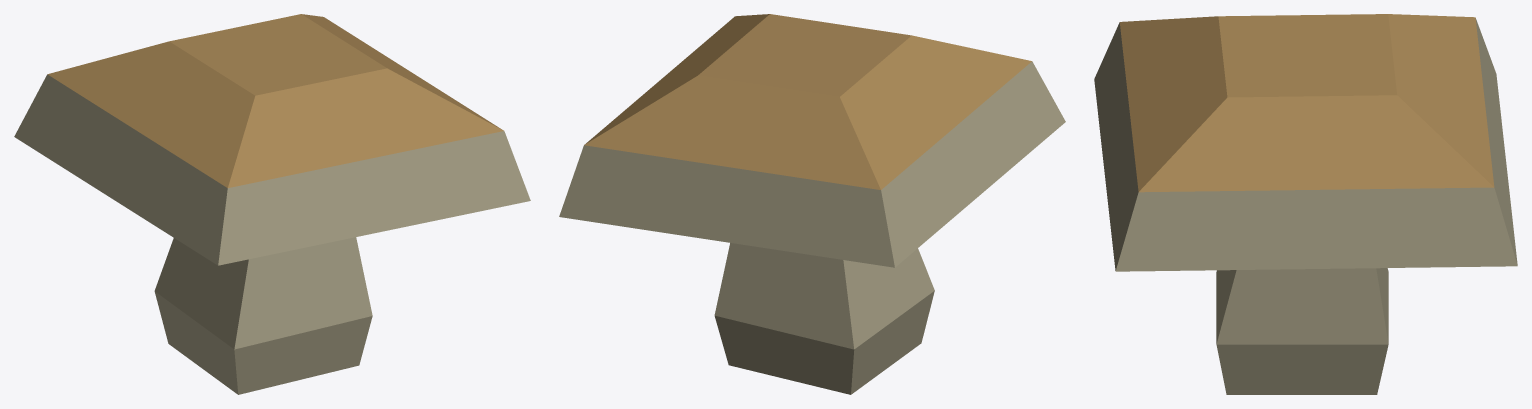
The model's file is mushroom01.fbx.
3 views of the same model, side by side, from view 1: azimuth 30°, elevation 25°; view 2: azimuth 150°, elevation 25°; view 3: azimuth 270°, elevation 25° (orthographic). The views are drawn at different scales.
Visible parts, largest first — view 1: mushroom01; view 2: mushroom01; view 3: mushroom01.
Part boxes in pixels (<box>): mushroom01: <box>14,14,530,394</box>; mushroom01: <box>559,14,1065,394</box>; mushroom01: <box>1094,14,1517,394</box>.
Bounding box in the file's own units: 8.01 × 6.73 × 8.02.
1 material, 1 textured.
